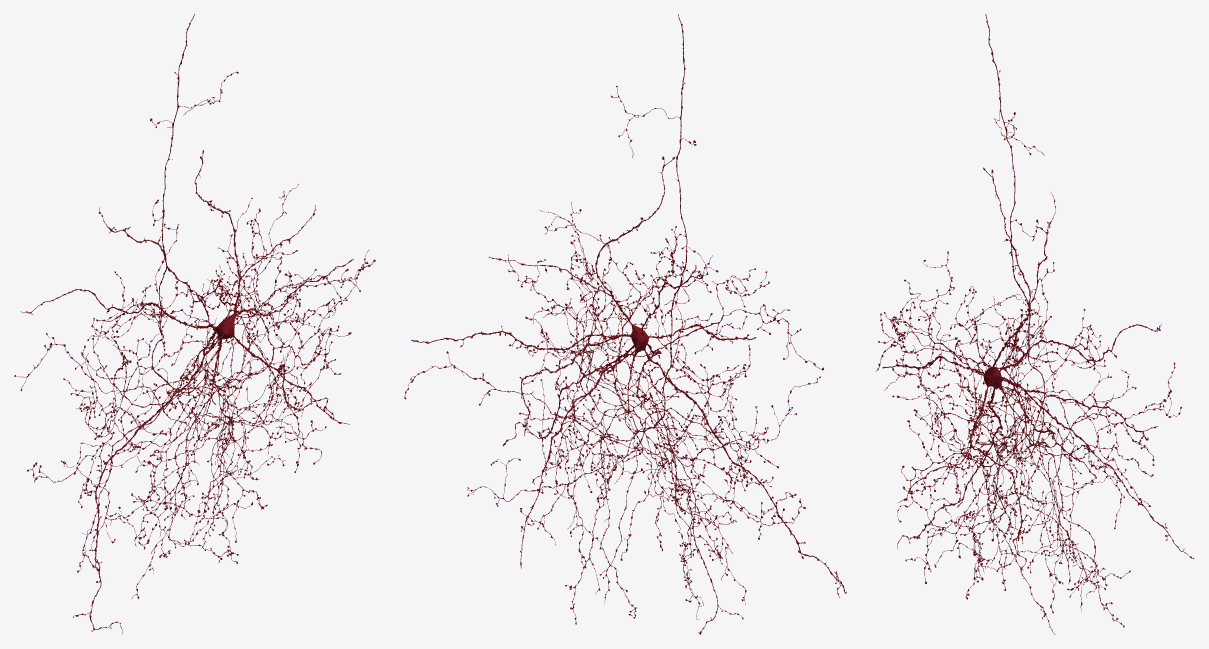
Rendered from 230129_hyperdir_example_cells_Edited2.glb.
3 views of the same model, side by side, from view 1: azimuth 30°, elevation 25°; view 2: azimuth 150°, elevation 25°; view 3: azimuth 270°, elevation 25° (orthographic). The views are drawn at different scales.
Parts seen in each view (by area): view 1: STN_7626258; view 2: STN_7626258; view 3: STN_7626258.
Boxes of the visible parts, box(x1,y1,x2,y2) form: STN_7626258: box(14, 14, 375, 633); STN_7626258: box(404, 14, 846, 634); STN_7626258: box(876, 14, 1193, 634).
Bounding box in the file's own units: 2.55 × 3.86 × 1.86.
